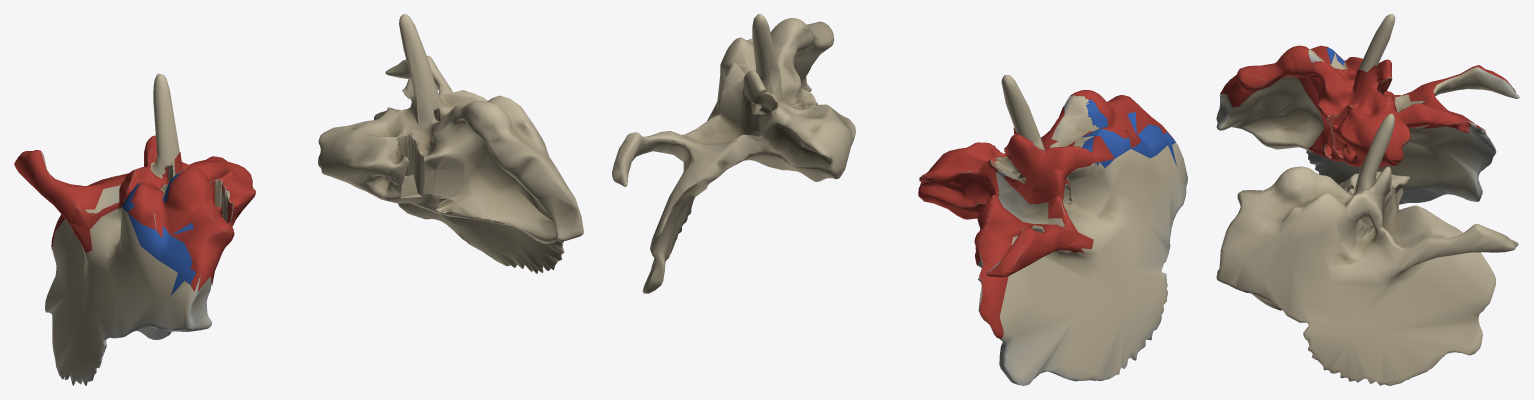
Rendered from os-temporale.glb.
3 renders of one model, left to right at view 1: azimuth 30°, elevation 25°; view 2: azimuth 150°, elevation 25°; view 3: azimuth 270°, elevation 25°, orthographic. The views are drawn at different scales.
Parts seen in each view (by area): view 1: FJ3281, FJ3386, origo__mastoideus-styloideus__m-stylohyoideus, origo__zygomaticus-fossa-mandibularis__m-masseter, origo__pars-petrosa-porus__m-levator-veli-palatini, insertio__mastoideus-styloideus__FJ1595; view 2: FJ3386, FJ3281, origo__zygomaticus-fossa-mandibularis__m-masseter, origo__pars-petrosa-porus__m-levator-veli-palatini, insertio__mastoideus-styloideus__FJ1595, origo__mastoideus-styloideus__m-stylohyoideus; view 3: FJ3281, FJ3386, origo__pars-petrosa-porus__m-levator-veli-palatini, origo__mastoideus-styloideus__m-stylohyoideus, origo__zygomaticus-fossa-mandibularis__m-masseter, os-temporale__pars-petrosa-porus.
Boxes of the visible parts, x1,y1,x2,y2 form: FJ3281: (318,14,583,273); FJ3386: (41,73,229,385); origo__mastoideus-styloideus__m-stylohyoideus: (128,166,234,292); origo__zygomaticus-fossa-mandibularis__m-masseter: (14,136,155,252); origo__pars-petrosa-porus__m-levator-veli-palatini: (110,135,255,226); insertio__mastoideus-styloideus__FJ1595: (121,173,210,295); FJ3386: (978,75,1187,385); FJ3281: (612,14,855,293); origo__zygomaticus-fossa-mandibularis__m-masseter: (979,134,1114,338); origo__pars-petrosa-porus__m-levator-veli-palatini: (918,106,1075,265); insertio__mastoideus-styloideus__FJ1595: (1082,99,1176,167); origo__mastoideus-styloideus__m-stylohyoideus: (1068,90,1176,151); FJ3281: (1216,113,1518,385); FJ3386: (1216,14,1518,204); origo__pars-petrosa-porus__m-levator-veli-palatini: (1262,59,1471,167); origo__mastoideus-styloideus__m-stylohyoideus: (1220,45,1350,106); origo__zygomaticus-fossa-mandibularis__m-masseter: (1334,51,1519,133); os-temporale__pars-petrosa-porus: (1263,61,1468,160).
Bounding box in the file's own units: 147 × 83.2 × 98.87.
